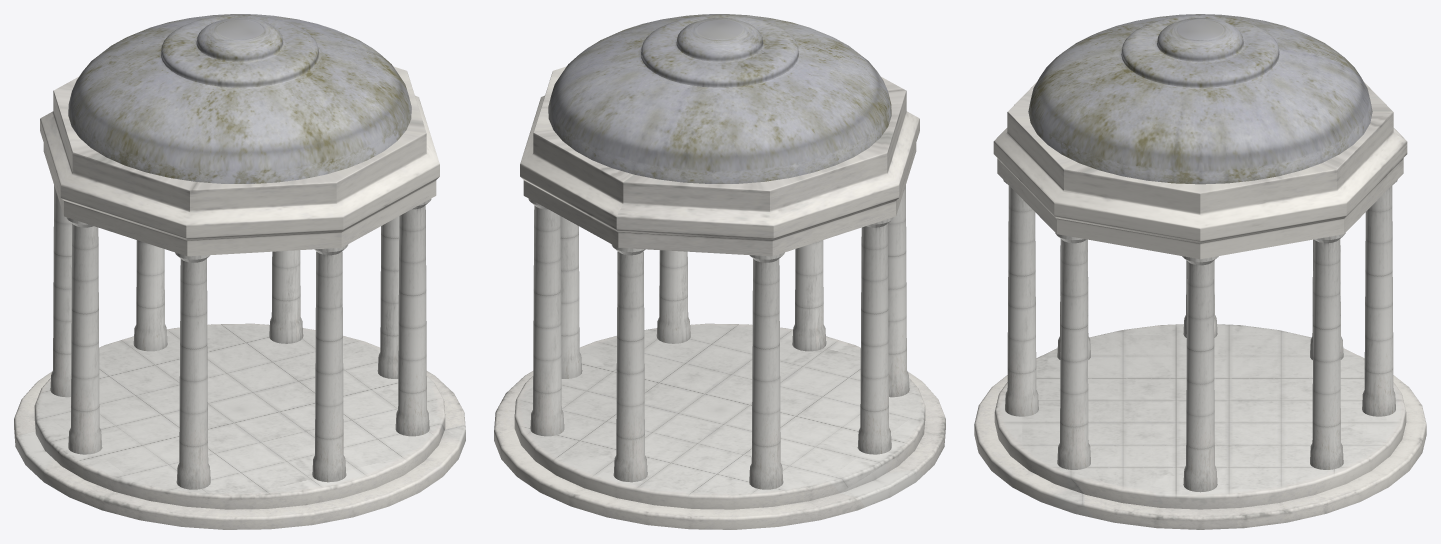
The model's file is gazebo3.obj.
3 views of the same model, side by side, from view 1: azimuth 30°, elevation 25°; view 2: azimuth 150°, elevation 25°; view 3: azimuth 270°, elevation 25° (orthographic).
Visible parts, largest first — view 1: polySurface1_polySurface3, polySurface1_polySurface4, polySurface1_polySurface5, polySurface2_polySurface1, polySurface1_polySurface7, polySurface1_polySurface13, polySurface1_polySurface8, polySurface1_polySurface12, polySurface1_polySurface11, polySurface1_polySurface9, polySurface1_polySurface10; view 2: polySurface1_polySurface3, polySurface1_polySurface4, polySurface1_polySurface5, polySurface1_polySurface12, polySurface1_polySurface11, polySurface1_polySurface13, polySurface1_polySurface10, polySurface2_polySurface1, polySurface1_polySurface7, polySurface1_polySurface9, polySurface1_polySurface8; view 3: polySurface1_polySurface3, polySurface1_polySurface4, polySurface1_polySurface5, polySurface1_polySurface9, polySurface1_polySurface8, polySurface1_polySurface10, polySurface1_polySurface7, polySurface1_polySurface11.
Boxes of the visible parts, x1,y1,x2,y2 form: polySurface1_polySurface3: [14, 323, 465, 529]; polySurface1_polySurface4: [68, 14, 411, 183]; polySurface1_polySurface5: [40, 66, 439, 256]; polySurface2_polySurface1: [175, 252, 210, 489]; polySurface1_polySurface7: [312, 244, 348, 482]; polySurface1_polySurface13: [66, 217, 102, 454]; polySurface1_polySurface8: [395, 199, 431, 436]; polySurface1_polySurface12: [50, 185, 71, 397]; polySurface1_polySurface11: [133, 240, 167, 351]; polySurface1_polySurface9: [377, 216, 399, 378]; polySurface1_polySurface10: [269, 250, 303, 343]; polySurface1_polySurface3: [494, 323, 945, 529]; polySurface1_polySurface4: [548, 14, 891, 183]; polySurface1_polySurface5: [520, 66, 919, 256]; polySurface1_polySurface12: [749, 252, 784, 489]; polySurface1_polySurface11: [611, 244, 647, 482]; polySurface1_polySurface13: [857, 217, 893, 454]; polySurface1_polySurface10: [528, 199, 564, 436]; polySurface2_polySurface1: [888, 185, 909, 397]; polySurface1_polySurface7: [792, 240, 826, 351]; polySurface1_polySurface9: [560, 216, 582, 378]; polySurface1_polySurface8: [656, 250, 690, 343]; polySurface1_polySurface3: [974, 324, 1426, 529]; polySurface1_polySurface4: [1028, 14, 1372, 184]; polySurface1_polySurface5: [993, 82, 1407, 259]; polySurface1_polySurface9: [1182, 256, 1218, 492]; polySurface1_polySurface8: [1055, 233, 1090, 469]; polySurface1_polySurface10: [1310, 233, 1345, 469]; polySurface1_polySurface7: [1003, 179, 1038, 416]; polySurface1_polySurface11: [1362, 179, 1397, 416].
Bounding box in the file's own units: 33.37 × 33 × 33.37.
